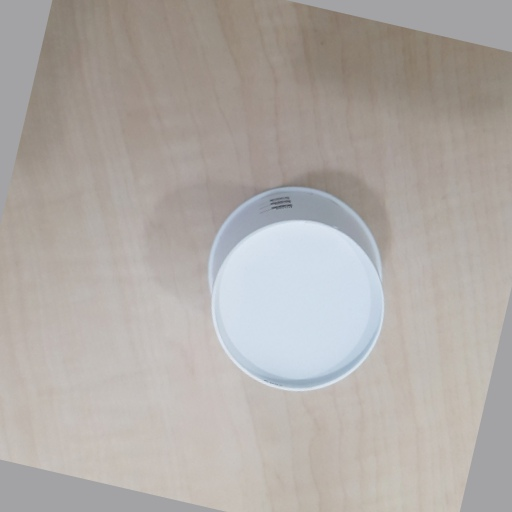Paper_1: (203, 188, 395, 391)
